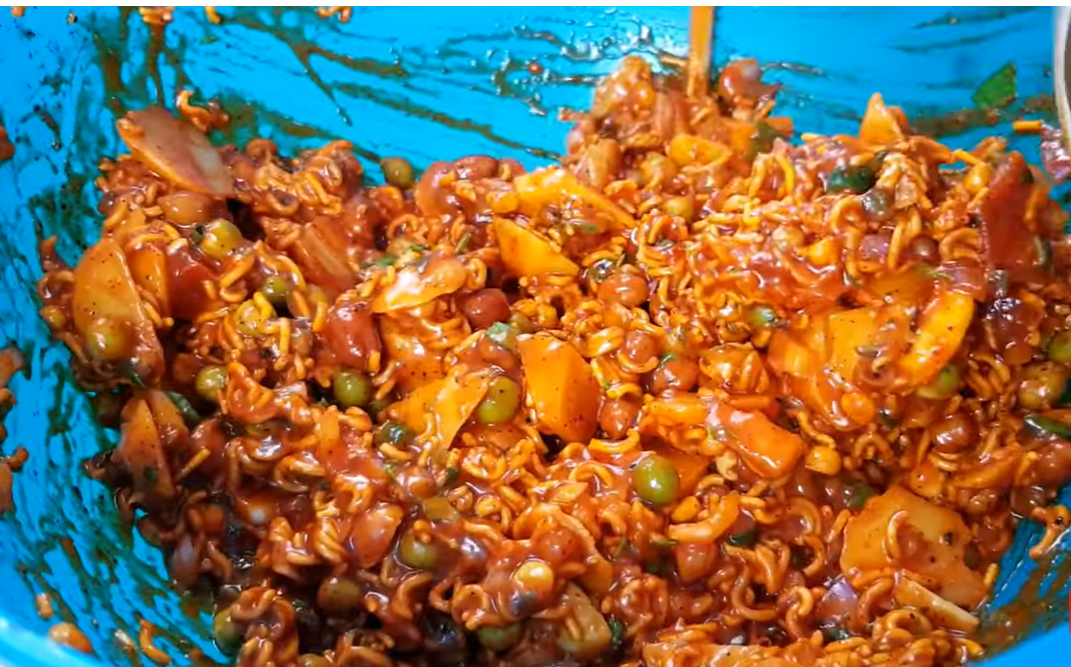chatpate: (77, 47, 1027, 620)
